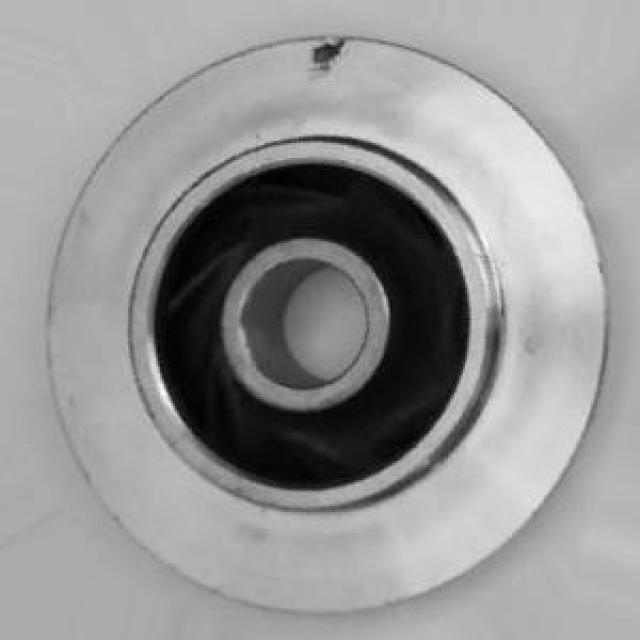Defect: (310, 32, 356, 81)
